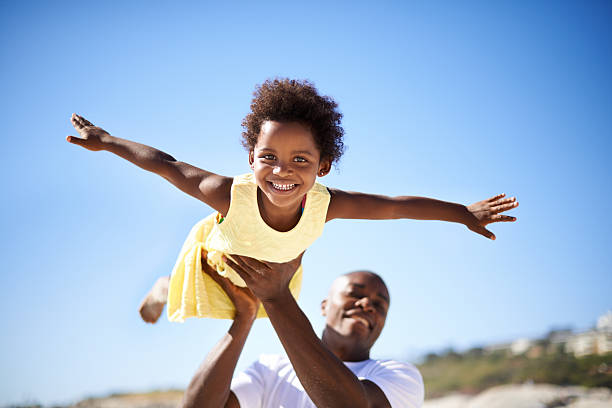without mask: (318, 268, 397, 354), (247, 122, 326, 208)
